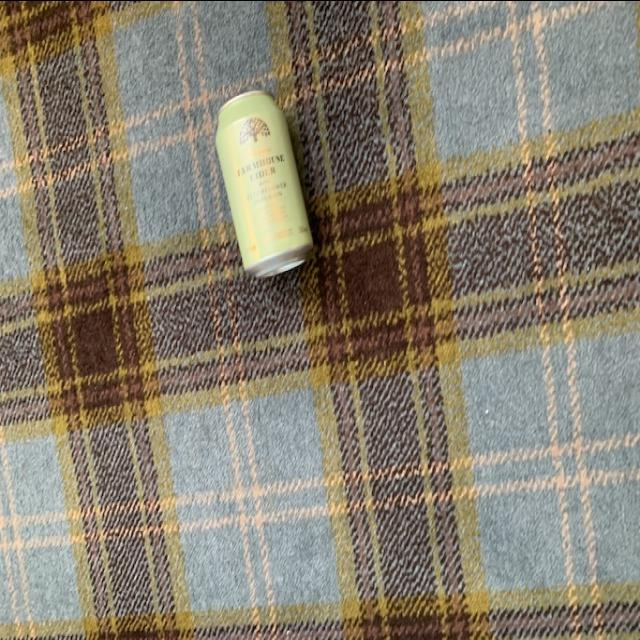litter: (216, 84, 316, 282)
